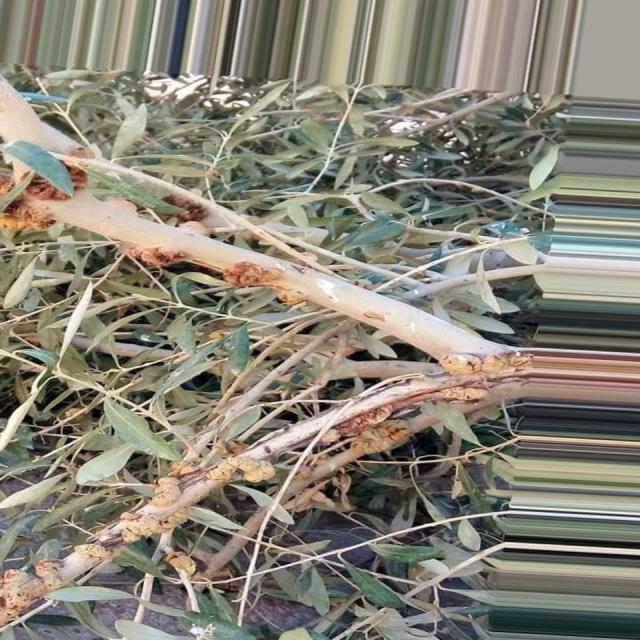Tuberculosis: (333, 381, 491, 438), (0, 559, 64, 627), (110, 503, 191, 543), (438, 348, 532, 378), (201, 453, 276, 486), (349, 420, 415, 457), (222, 261, 284, 287), (124, 243, 184, 269), (148, 476, 180, 508), (164, 551, 197, 576)
